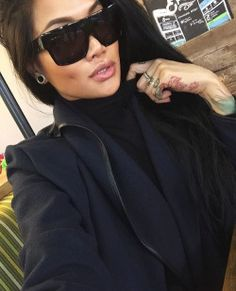sunglasses: (36, 9, 116, 55), (36, 29, 126, 55), (37, 39, 62, 49)
